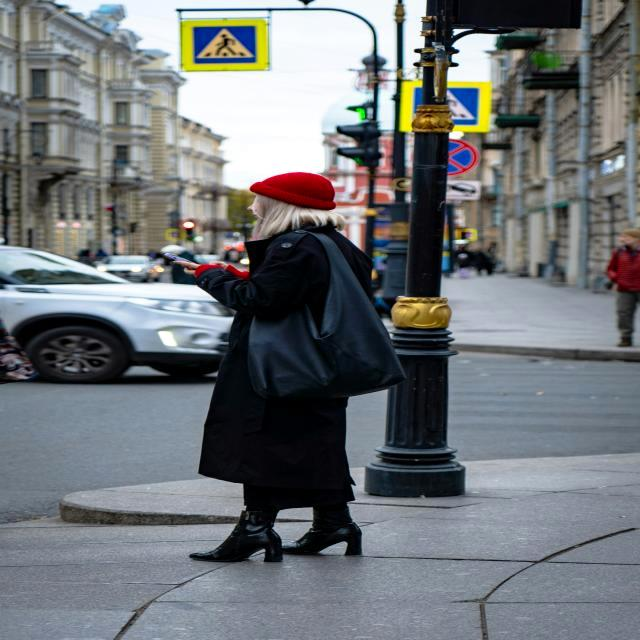no_hard_hat: (249, 172, 336, 211)
person: (172, 172, 371, 561)
